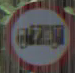Heavy Vehicles: (7, 2, 65, 60)
